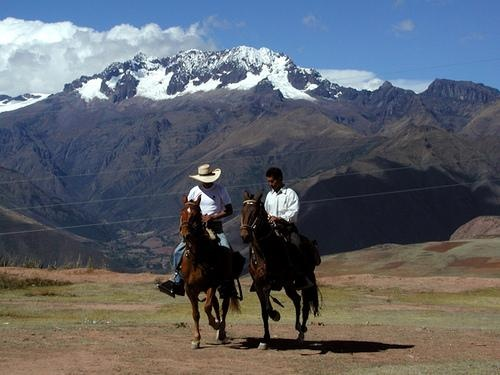person: (155, 163, 236, 304), (249, 165, 319, 309)
